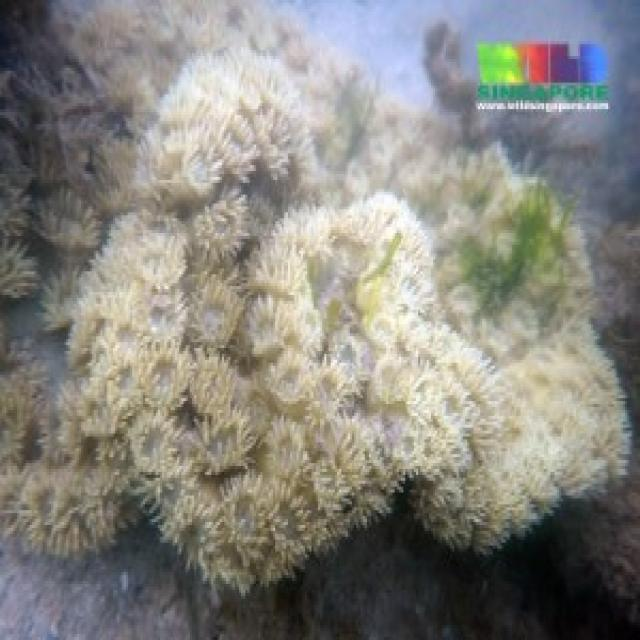Bleached: (1, 48, 626, 594)
